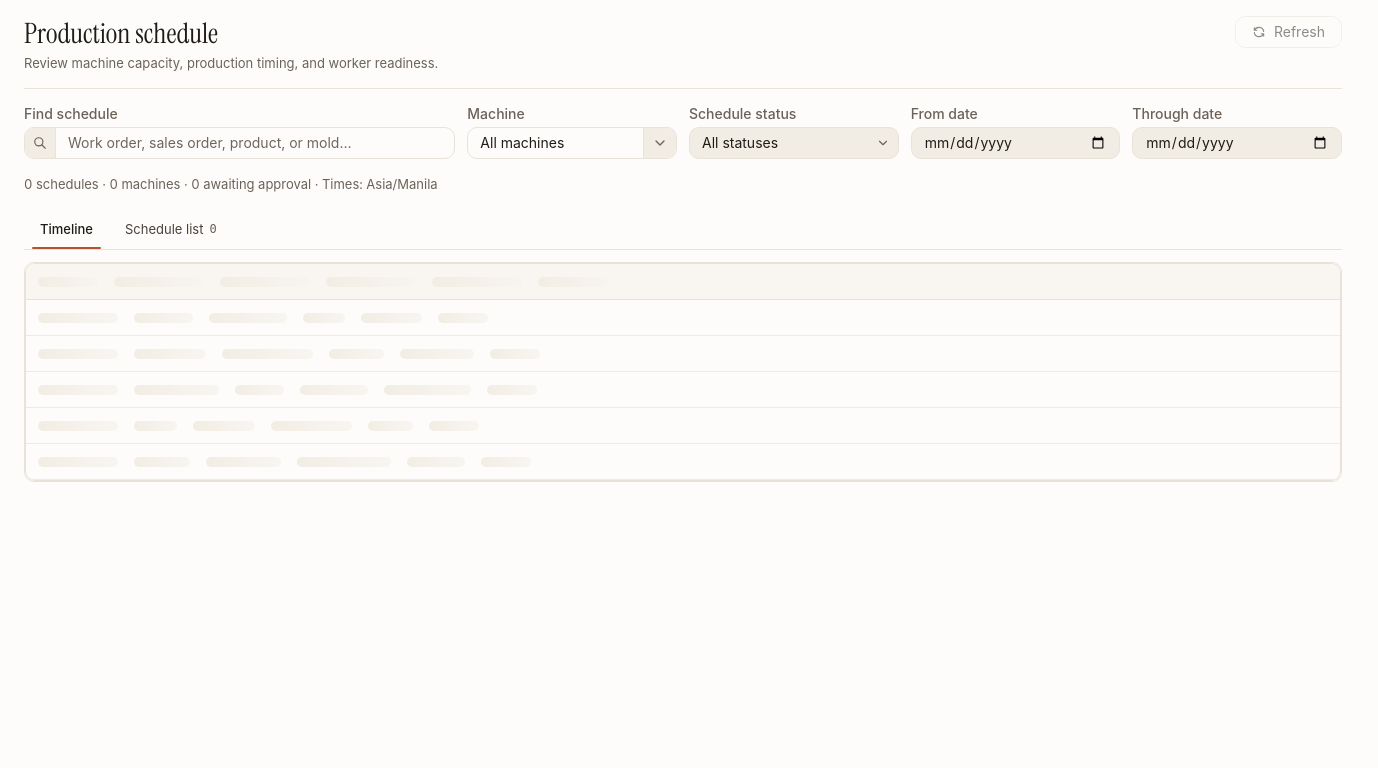
Test: ProductionSchedulePage › hands confirmation to WO records even with production.schedule.confirm permission
Click the tab "Schedule list 0".
click(171, 229)  # box [109,209,233,249]
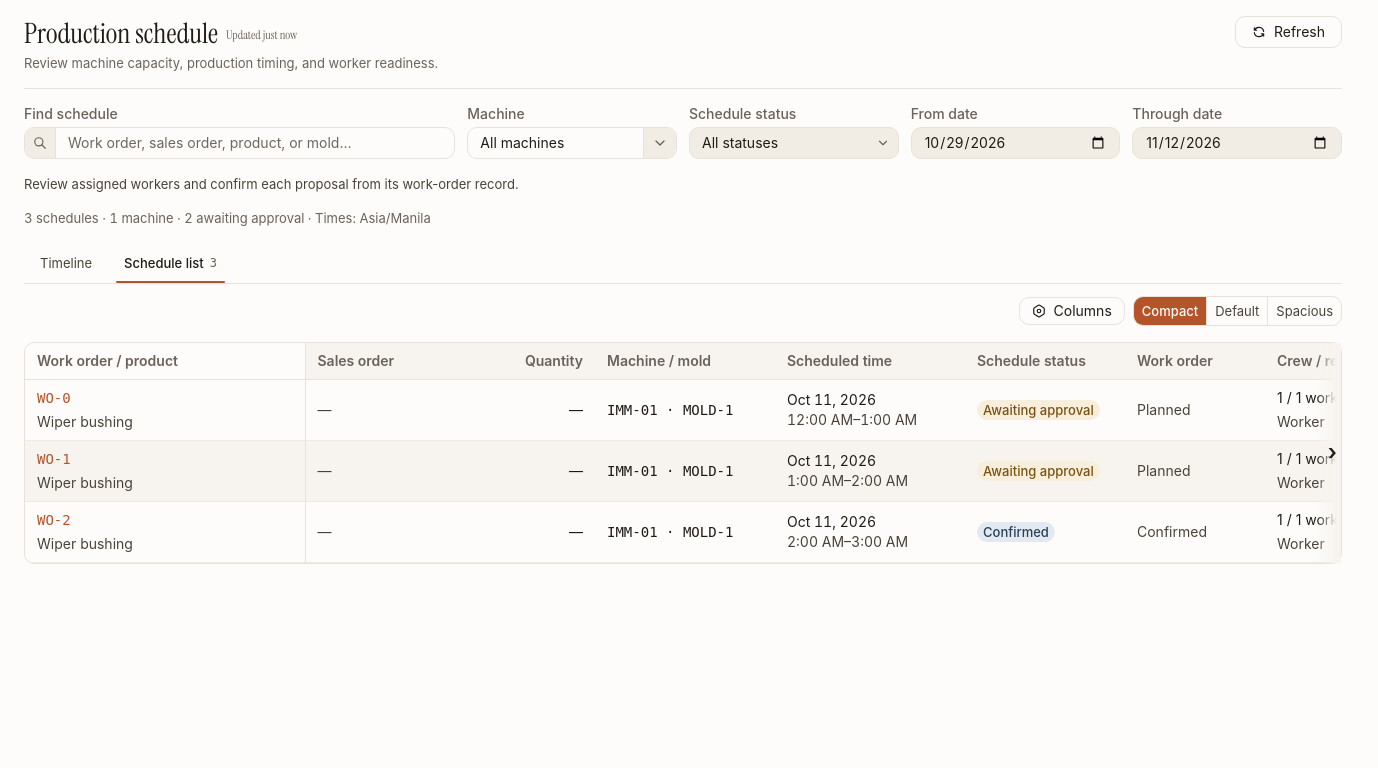
Expected: the text "confirm each proposal from its work-order record" is shown, [24,176,519,192]
